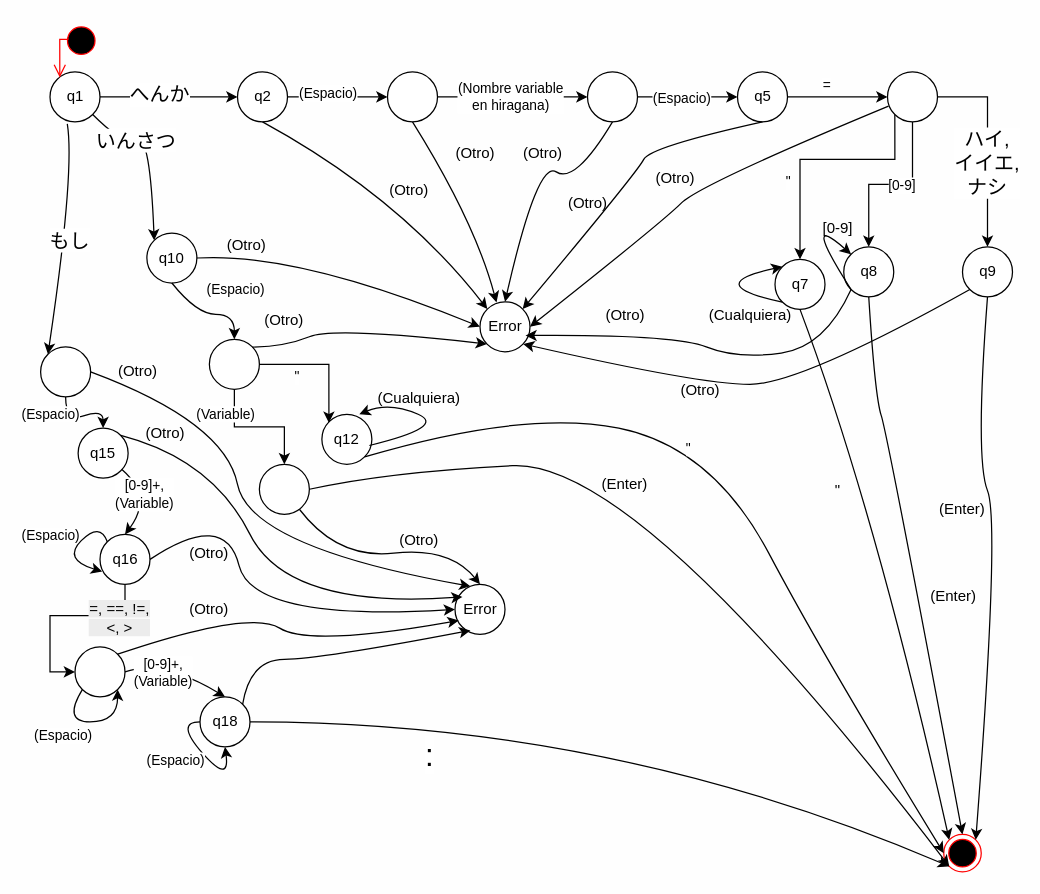
The diagram is 1040 pixels wide and 894 high, and some of its shapes have lost their labels. The shapes that lost their labels are listed below. From the top down, each one's centre as x and y in pixels, then its label:
At (x=412, y=96): "q3".
At (x=612, y=96): "q4".
At (x=912, y=96): "q6".
At (x=65, y=371): "q14".
At (x=233, y=363): "q11".
At (x=283, y=488): "q13".
At (x=99, y=671): "q17".
